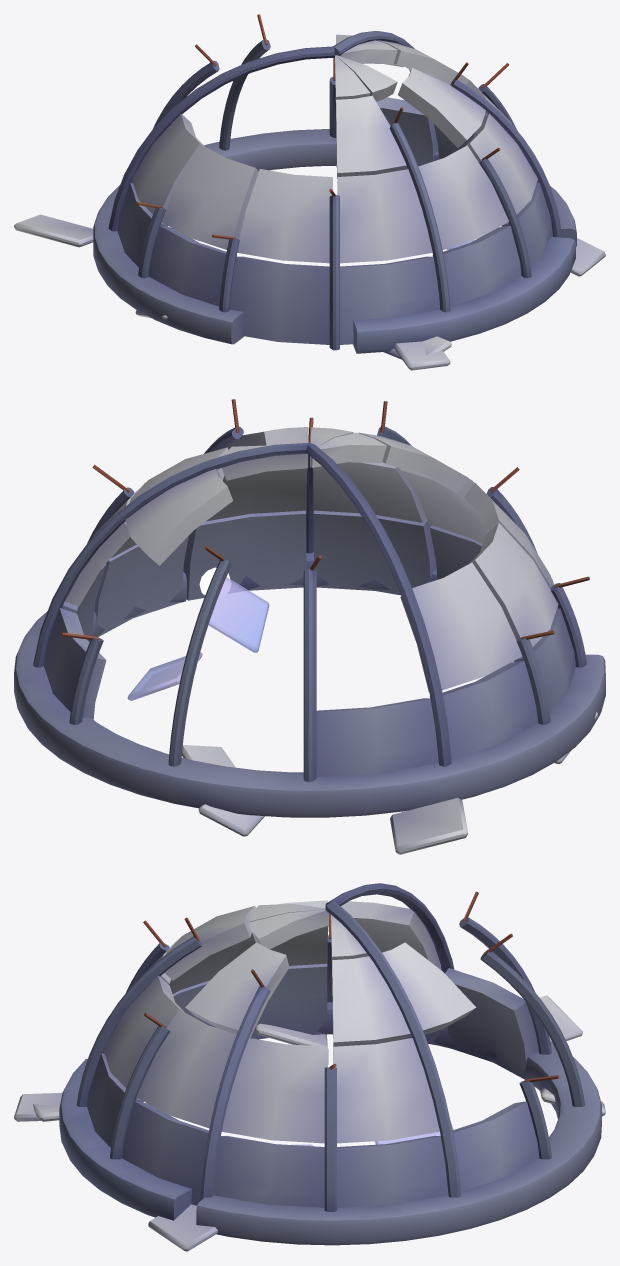
Rendered from hub_ruin_dome_collapsed.glb.
3 views of the same model, one above another, from view 1: azimuth 30°, elevation 25°; view 2: azimuth 150°, elevation 25°; view 3: azimuth 270°, elevation 25° (orthographic). The views are drawn at different scales.
Visible parts, largest first — view 1: hub_ruin_dome_collapsed; view 2: hub_ruin_dome_collapsed; view 3: hub_ruin_dome_collapsed.
Part boxes in pixels (x1,y1,x2,y2): hub_ruin_dome_collapsed: (14,14,605,370); hub_ruin_dome_collapsed: (14,399,605,854); hub_ruin_dome_collapsed: (14,883,605,1251).
Bounding box in the file's own units: 9.11 × 4.38 × 9.59.
